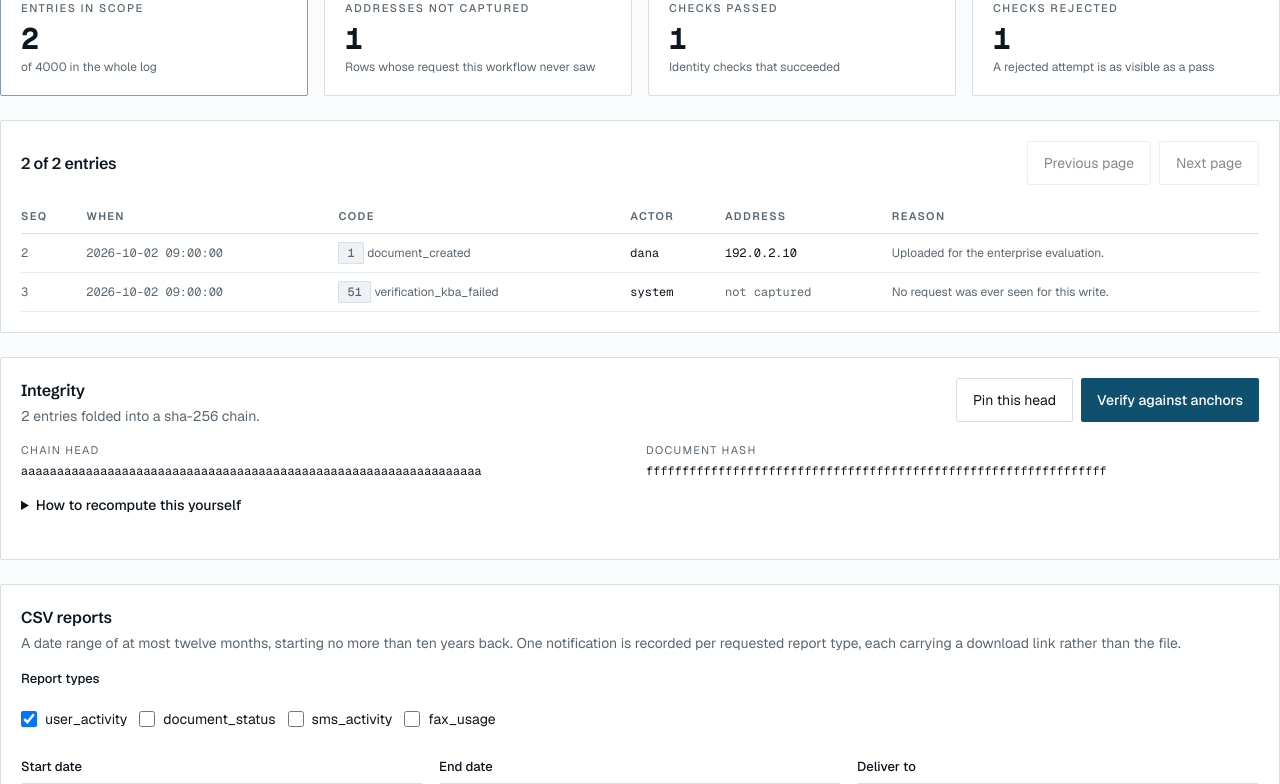
Scenario: the integrity panel › reports a checked anchor as intact
(page scrolled)
Expected: the text "Uploaded for the enterprise evaluation." is shown, [892,234,1259,272]
Click the button "Verify against anchors": [1170, 400] box [1081,378,1259,422]
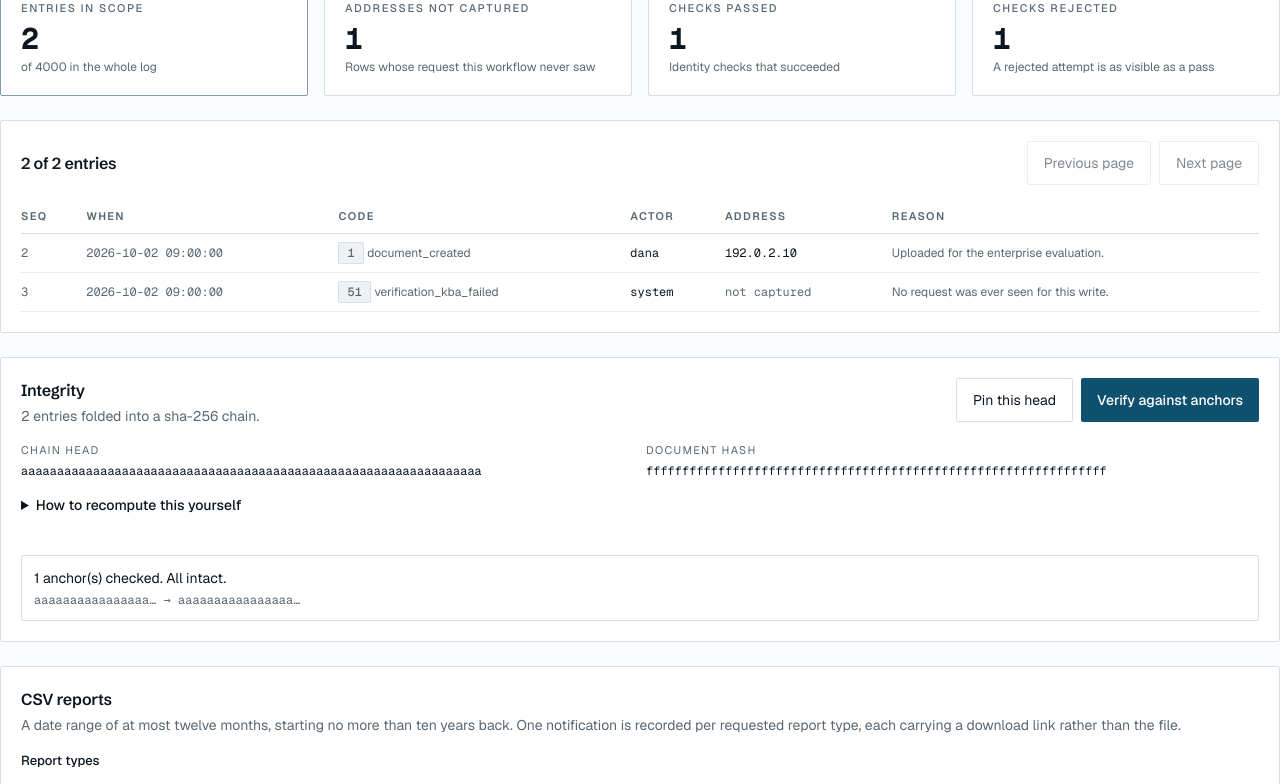
Expected: the text "1 anchor(s) checked. All intact." is shown, [34,569,226,587]
